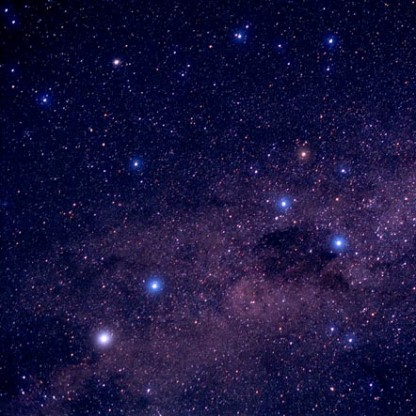Southern Cross: (327, 229, 355, 254), (269, 192, 292, 220), (333, 162, 357, 181), (293, 141, 312, 162)
